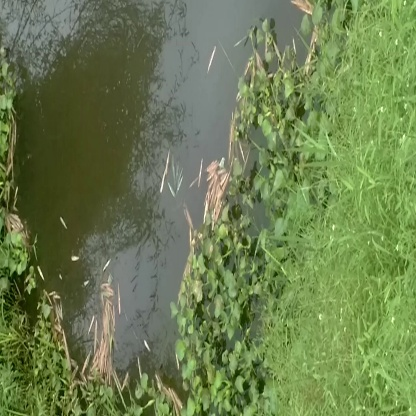leaf: (80, 285, 123, 373)
